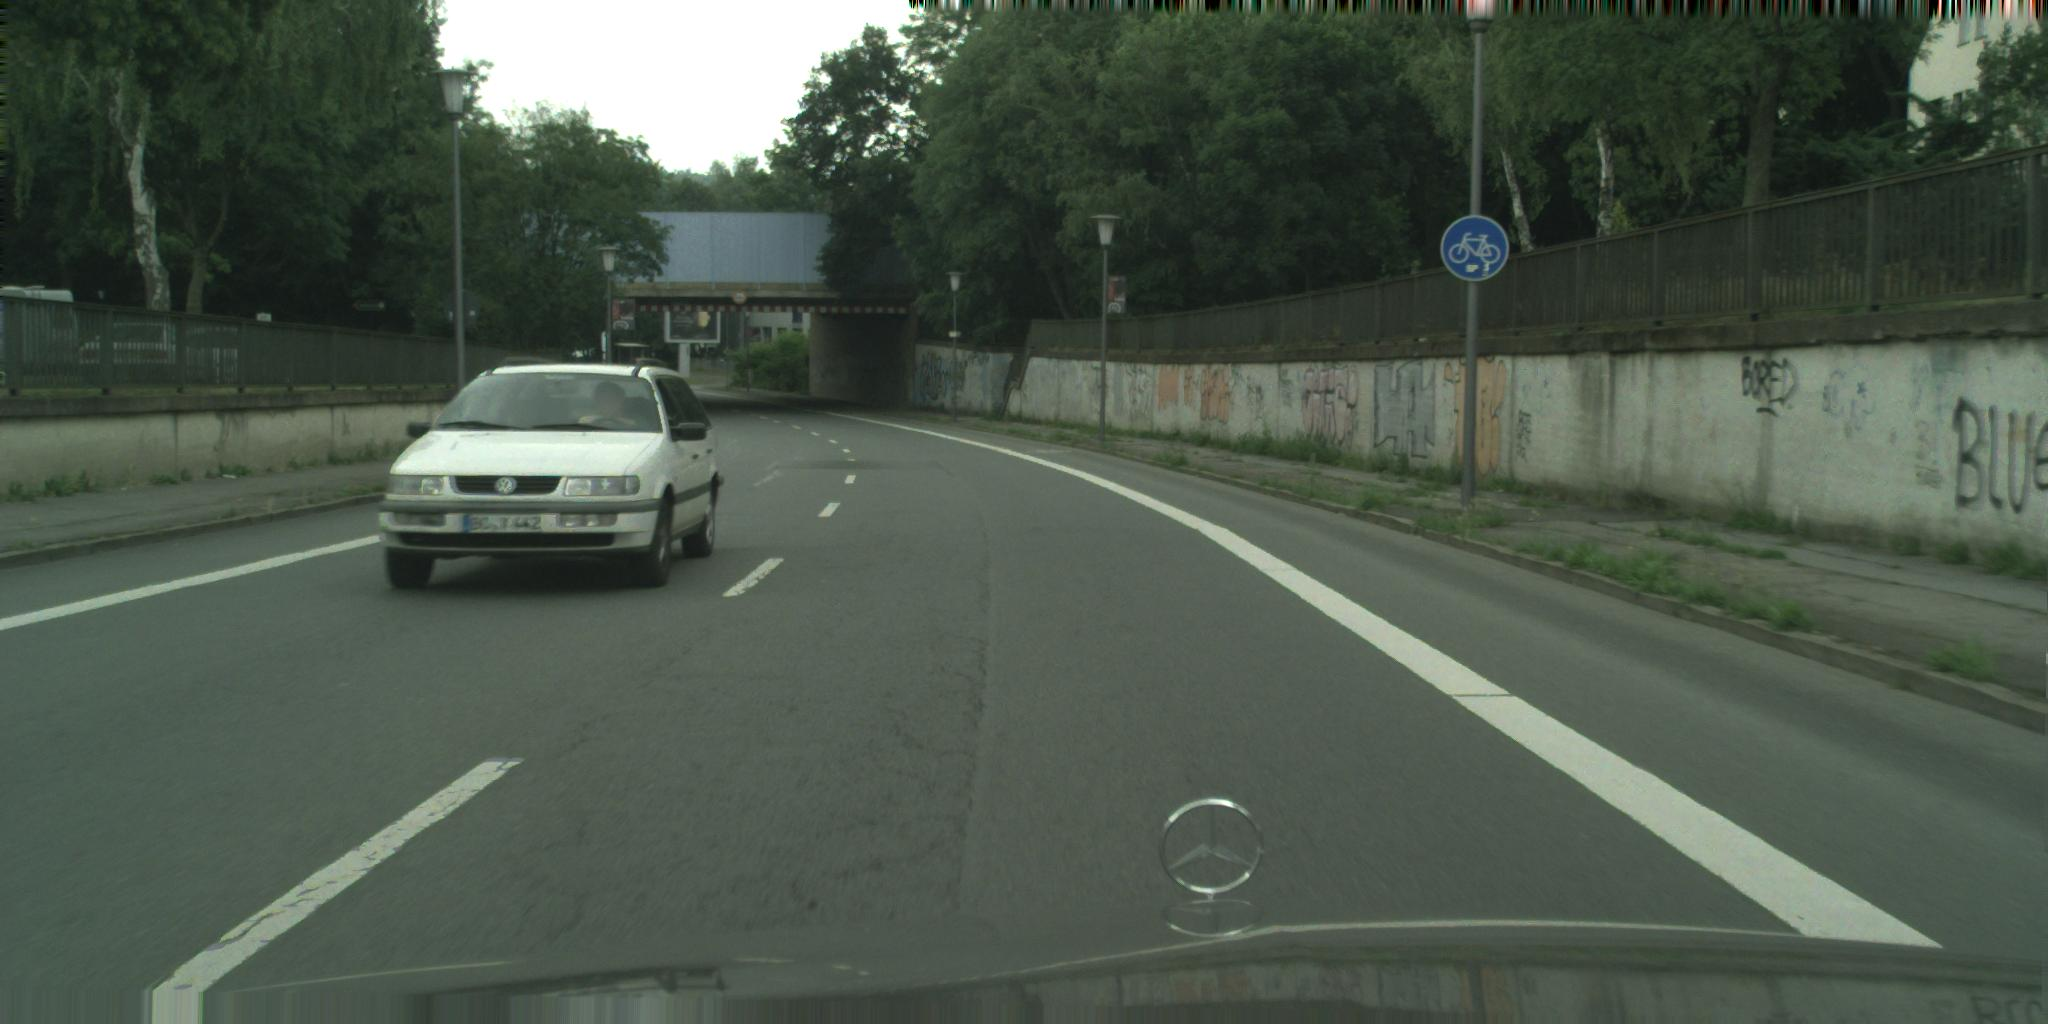car: (376, 357, 725, 590), (1, 285, 84, 344)
